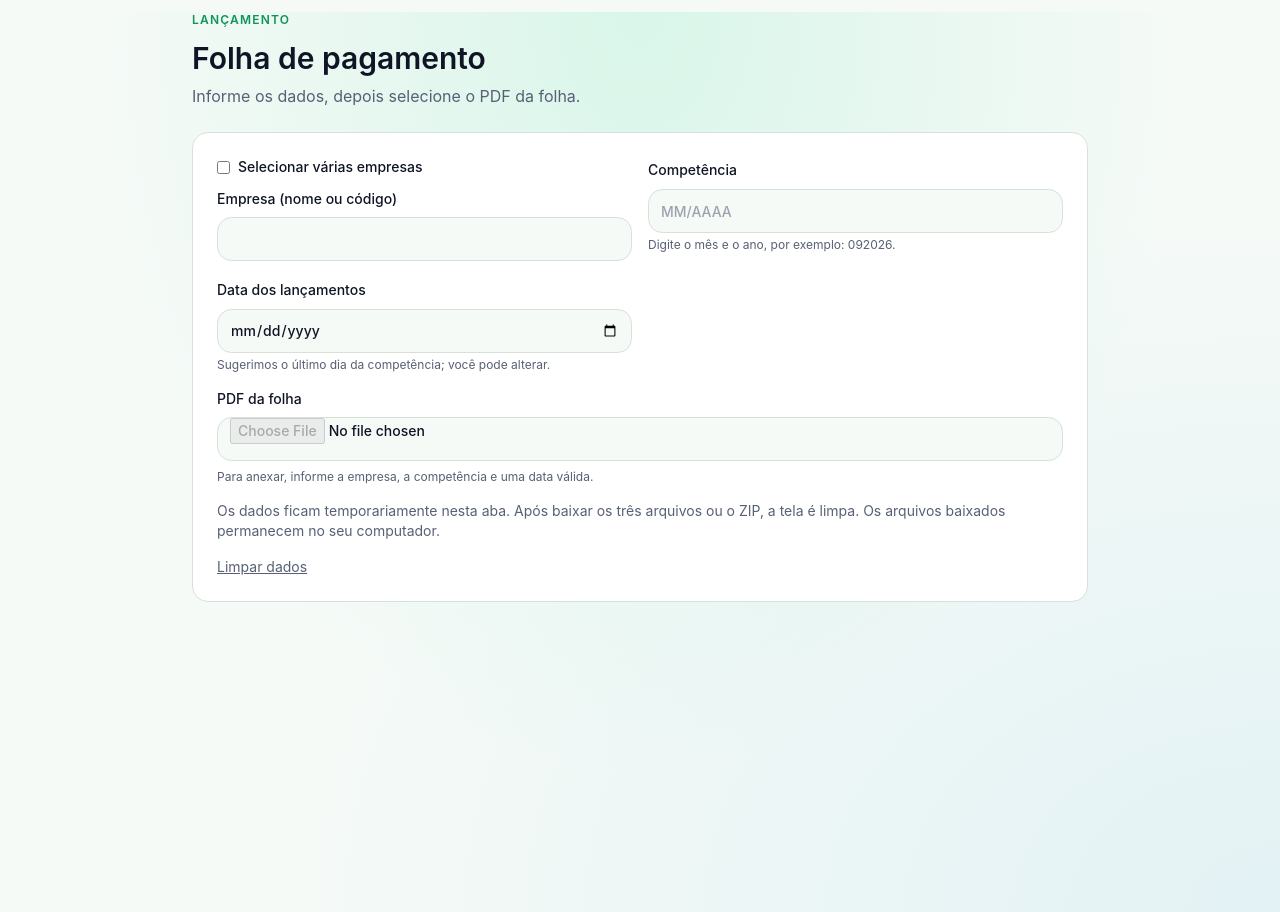
Test: limpeza de dados da folha › cancela a leitura e não restaura os dados ao limpar durante o processamento
Later steps or results of the test are not shown.
Type "0104" into the field labelled "Empresa (nome ou código)". click: (424, 239)
box: [217, 217, 632, 261]
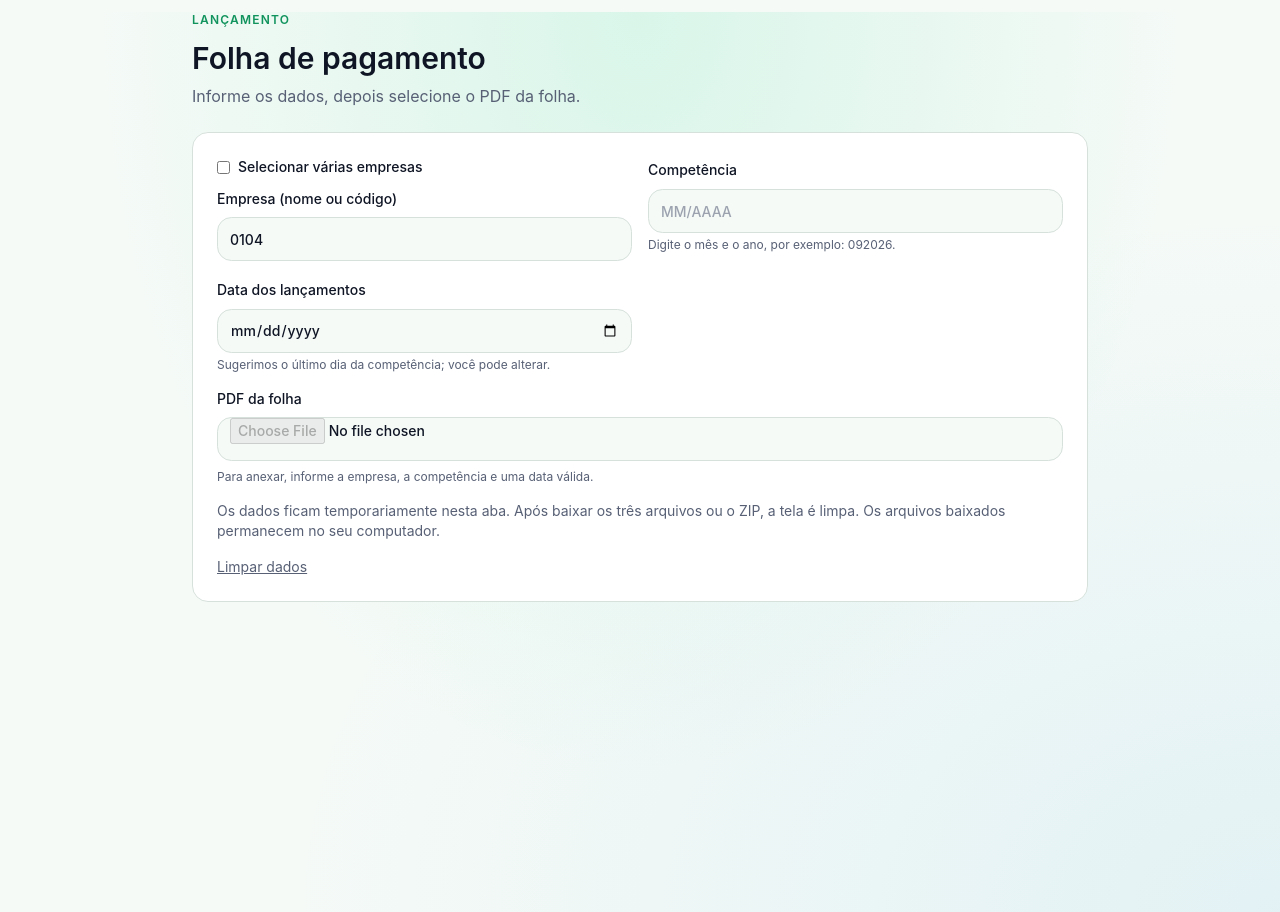
Type "092026" into the field labelled "Competência". click: (856, 211)
box: [648, 189, 1063, 233]
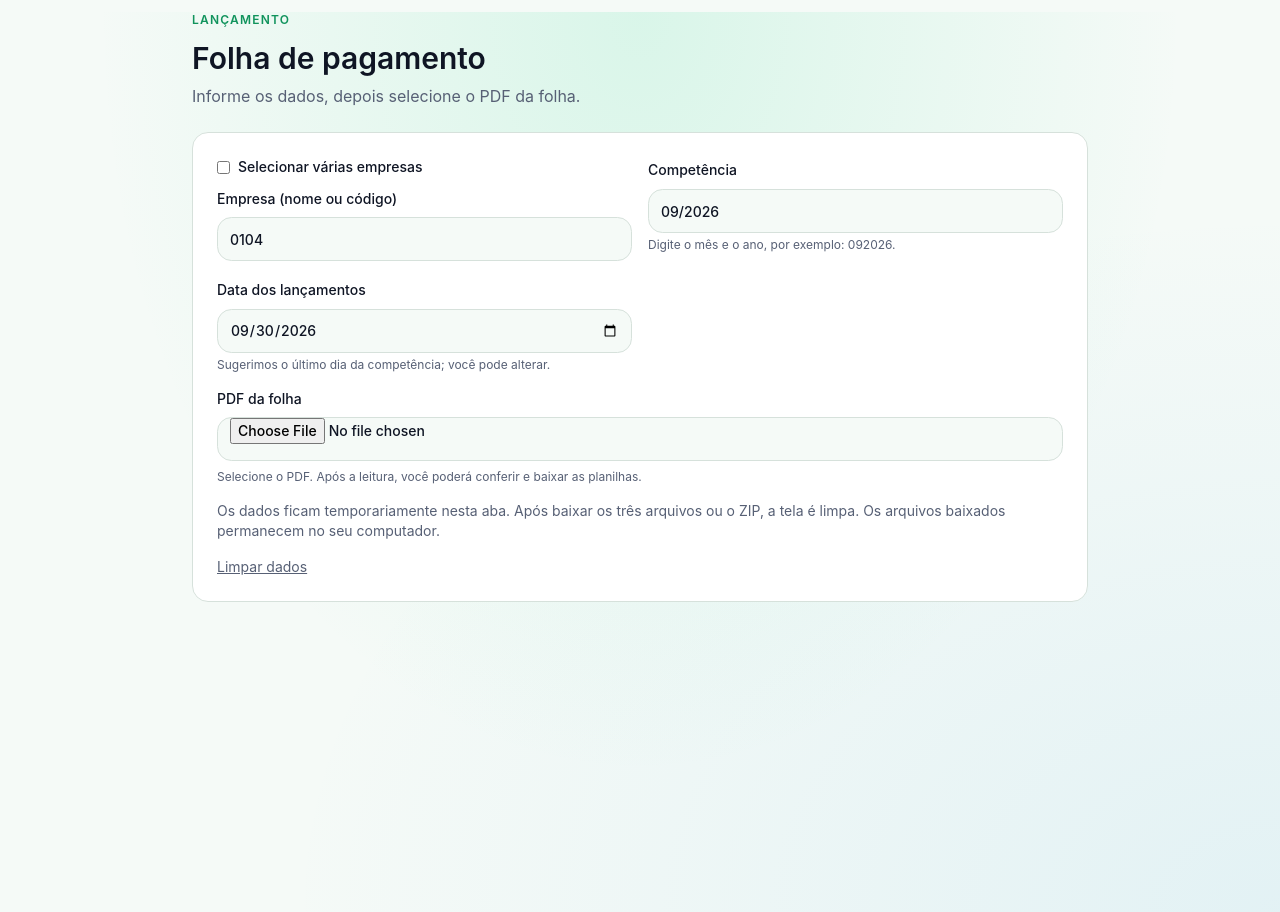
Expected: the field labelled "Competência" holds "09/2026", [648, 189, 1063, 233]
